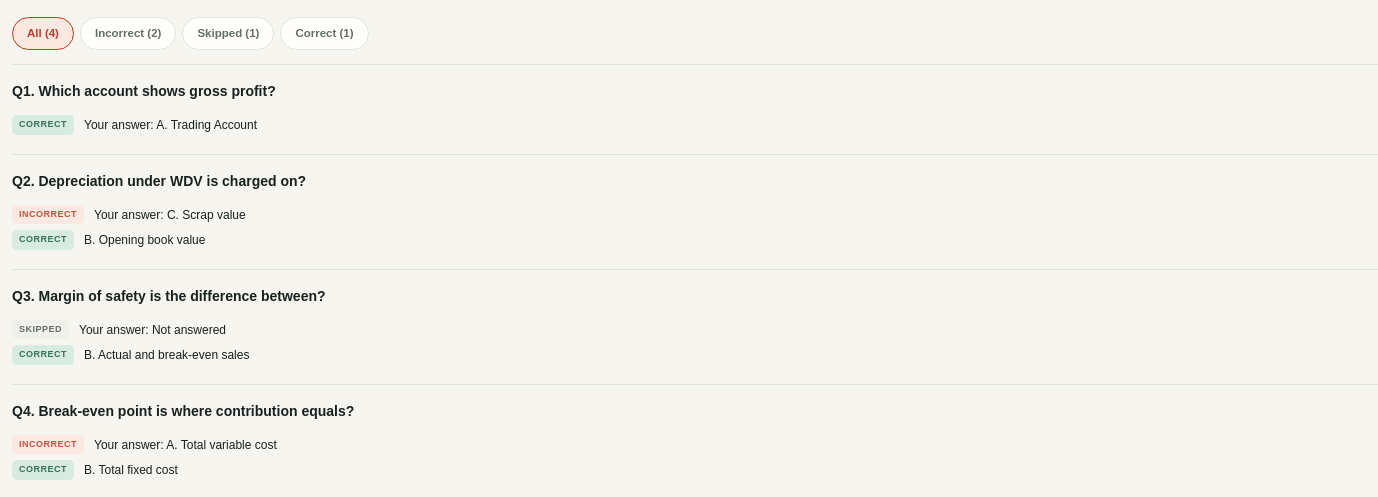
ResultQuestionList › narrows to only incorrect answers
What coordinates should you click on to do the following:
click the button "Incorrect (2)"
I would click on:
 (128, 34)
Its box is [80, 17, 176, 50].
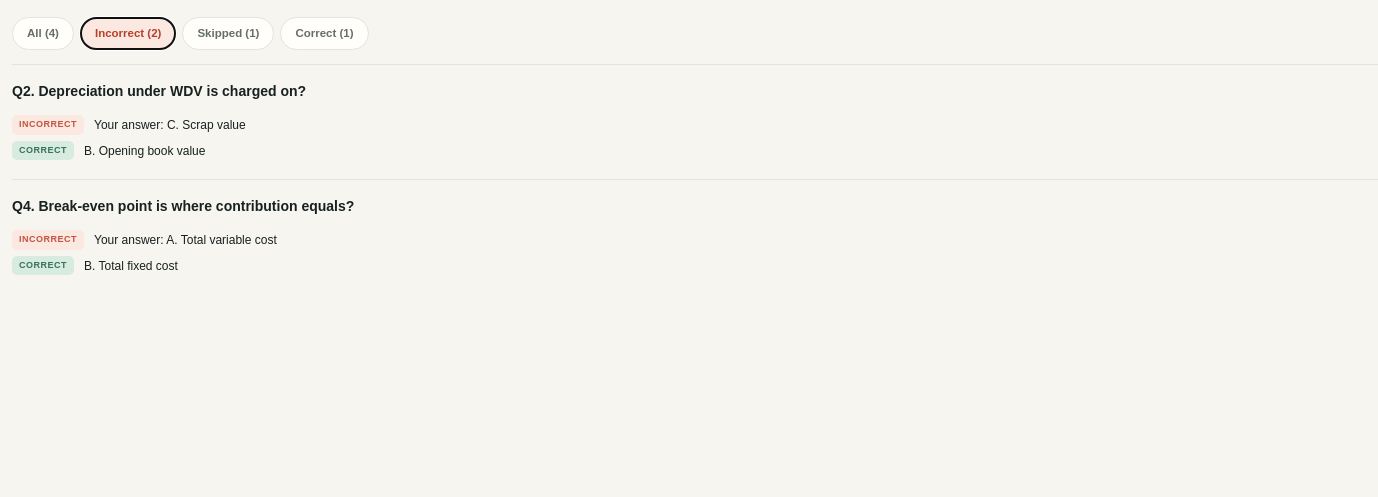
Check: the heading "Q2. Depreciation under WDV is charged on?" is shown, box [12, 83, 306, 99]
Check: the heading "Which account shows gross profit" is gone
Check: the heading "Margin of safety" is gone
